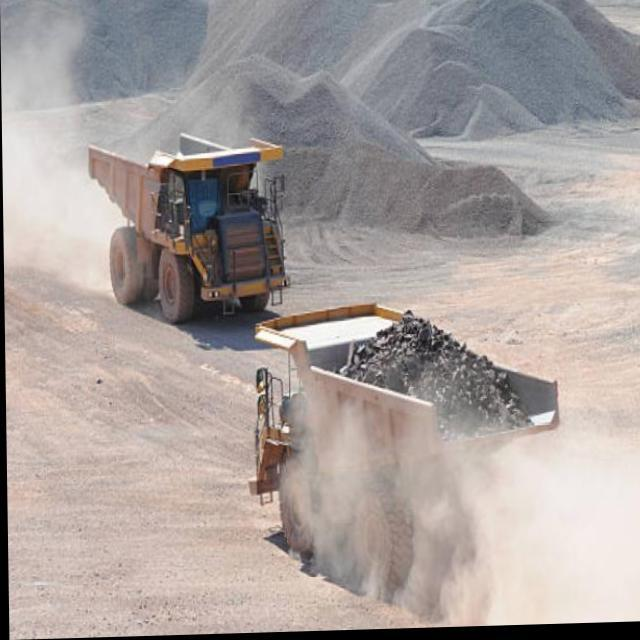uncovered: (264, 315, 550, 576), (86, 128, 272, 312)
